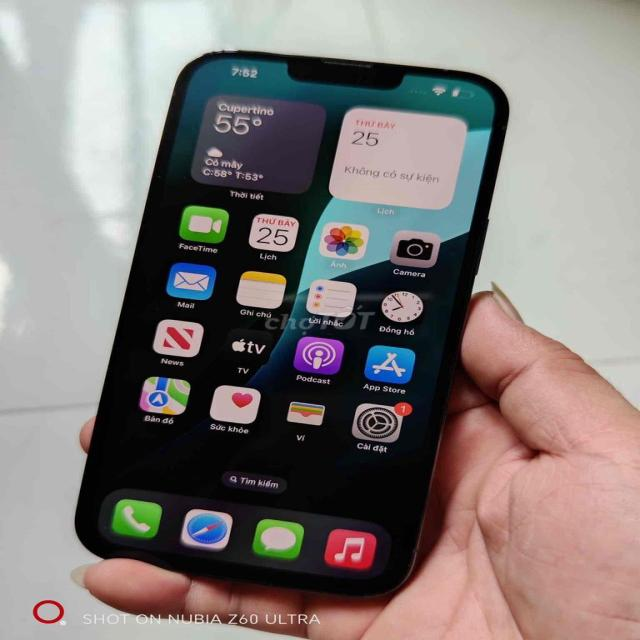gen_12_13: (72, 49, 512, 617)
